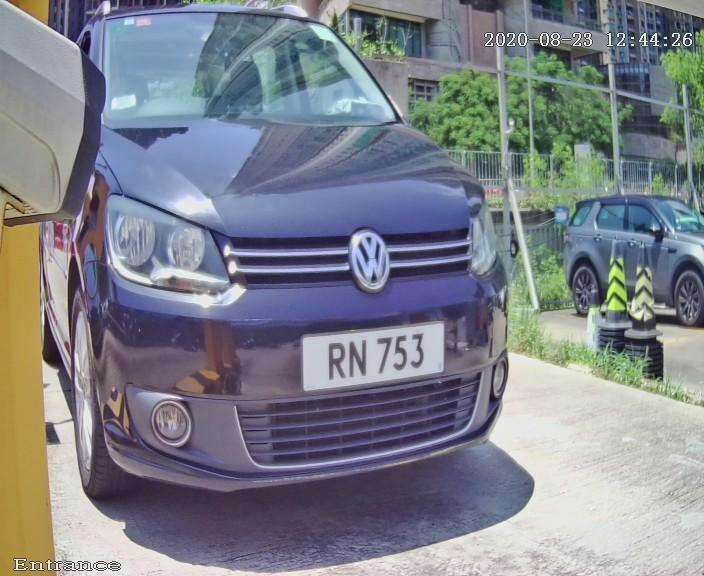Car: (19, 6, 557, 546)
License Plate: (296, 312, 447, 399)
